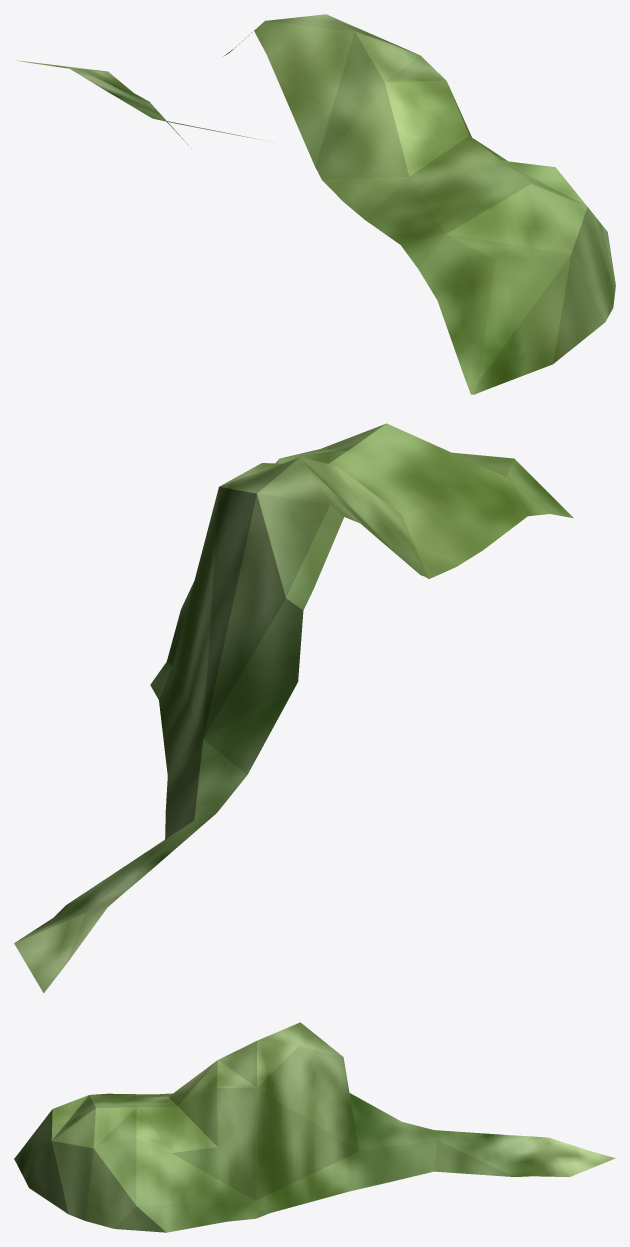
3 renders of one model, top to bottom at view 1: azimuth 30°, elevation 25°; view 2: azimuth 150°, elevation 25°; view 3: azimuth 270°, elevation 25°, orthographic. The views are drawn at different scales.
Bounding box in the file's own units: 0.3353 × 0.293 × 1.15.
1 material, 1 textured.
